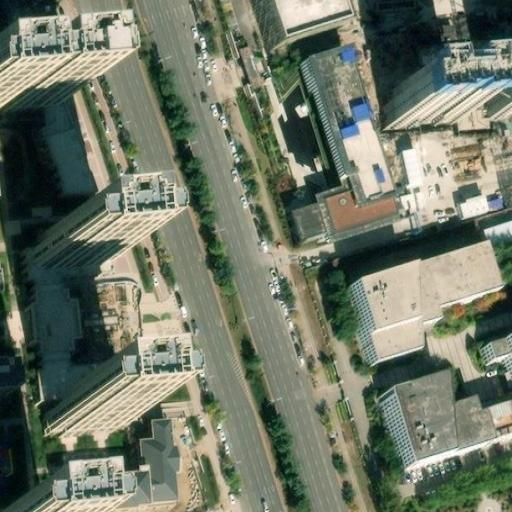building: (372, 331, 512, 468), (345, 241, 494, 367), (290, 49, 388, 211), (279, 192, 388, 244), (11, 229, 111, 282), (42, 386, 138, 431), (387, 78, 472, 128), (134, 417, 179, 500), (0, 65, 75, 111), (489, 70, 512, 117)
